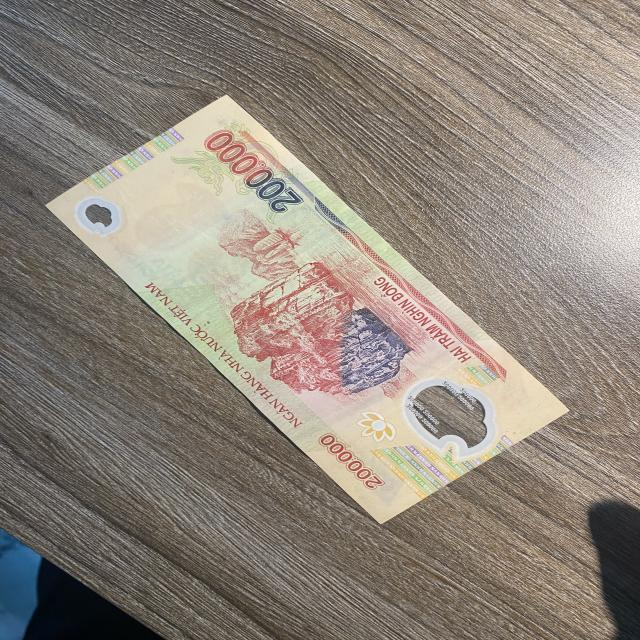200 000 VND: (43, 94, 570, 527)
